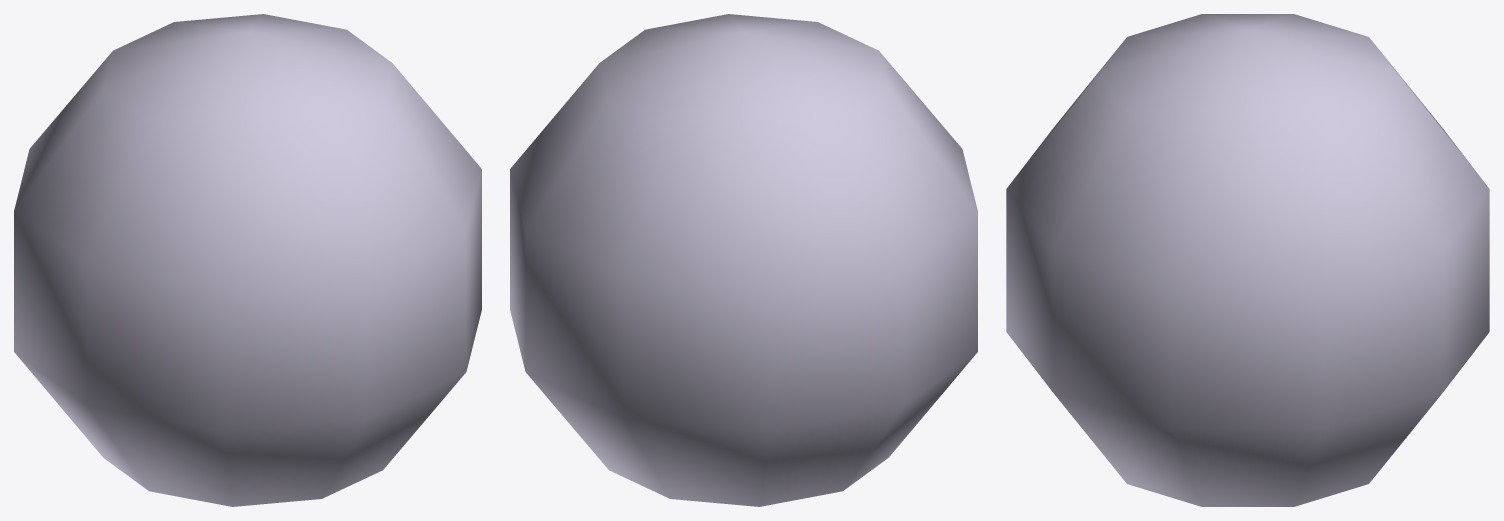
The model's file is SM_Keeper_OverlordEcho_Star11.fbx.
3 renders of one model, left to right at view 1: azimuth 30°, elevation 25°; view 2: azimuth 150°, elevation 25°; view 3: azimuth 270°, elevation 25°, orthographic.
Parts seen in each view (by area): view 1: SM_Keeper_OverlordEcho_Star11; view 2: SM_Keeper_OverlordEcho_Star11; view 3: SM_Keeper_OverlordEcho_Star11.
Boxes of the visible parts, box(x1,y1,x2,y2) form: SM_Keeper_OverlordEcho_Star11: box(14, 14, 481, 506); SM_Keeper_OverlordEcho_Star11: box(510, 14, 977, 506); SM_Keeper_OverlordEcho_Star11: box(1006, 14, 1489, 506).
Size of the model in its own units: 1.81 by 2 by 1.9.
